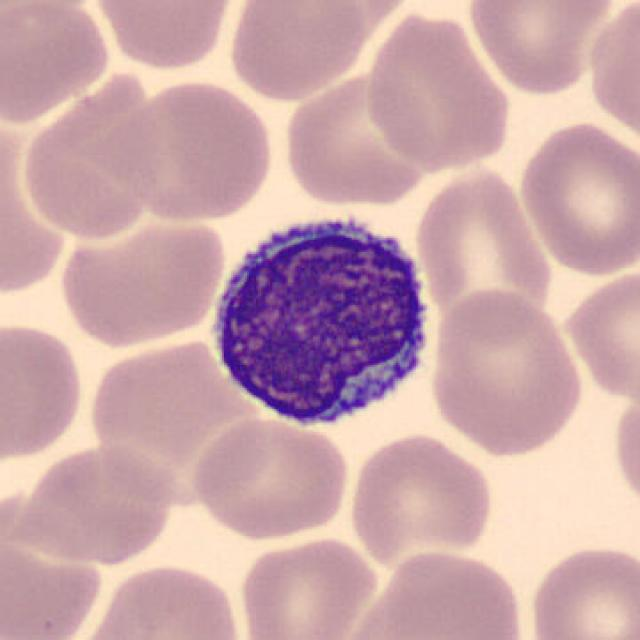Lymphocyte: (201, 199, 444, 437)
RBC: (425, 284, 587, 460), (19, 69, 174, 246), (361, 3, 517, 175), (105, 76, 277, 226), (55, 204, 229, 351), (412, 164, 556, 330), (345, 428, 496, 572), (9, 441, 181, 566), (289, 70, 436, 215), (187, 413, 352, 541), (87, 335, 251, 460), (516, 116, 638, 278), (339, 546, 529, 640), (0, 489, 105, 640), (234, 532, 380, 640), (224, 0, 373, 104), (462, 0, 620, 97), (0, 0, 114, 127), (71, 559, 247, 640), (0, 317, 87, 464), (0, 130, 77, 296), (522, 539, 640, 640), (558, 264, 640, 404), (89, 0, 242, 72), (585, 0, 638, 148), (608, 377, 640, 520)
